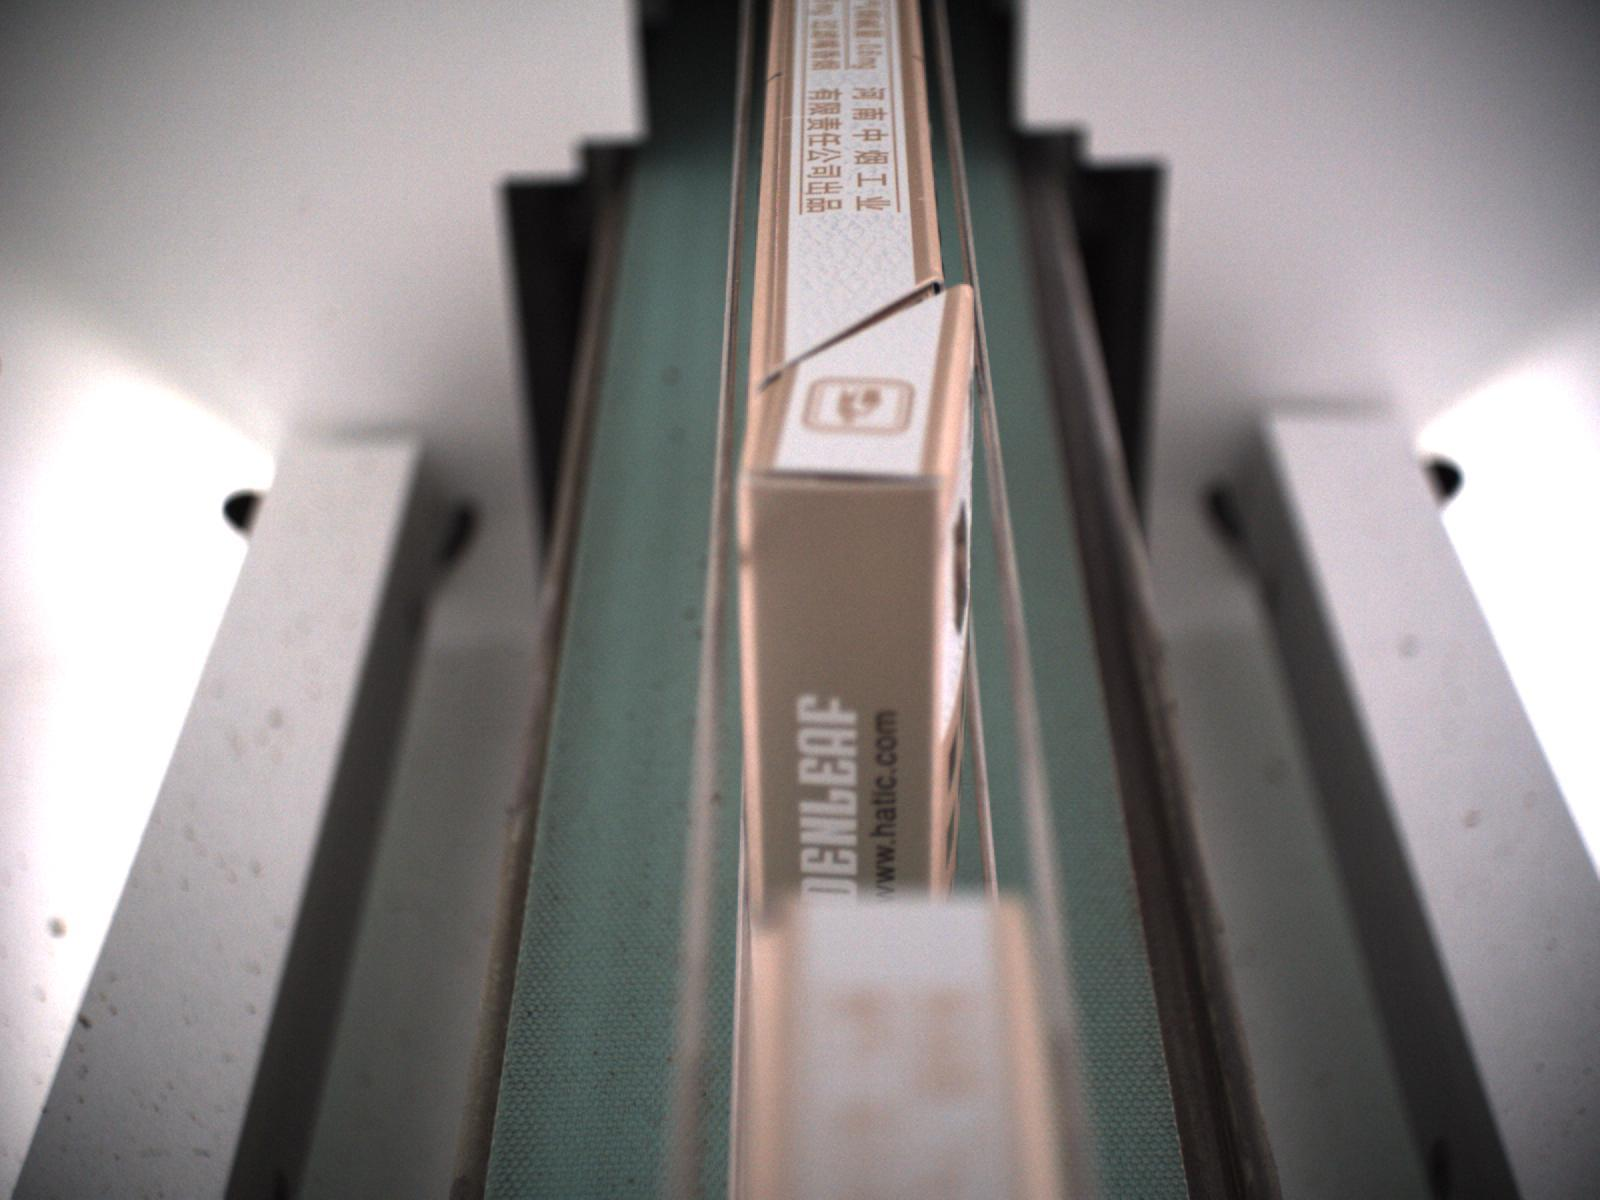bottomUpwarp_upper_1: (742, 266, 978, 421)
